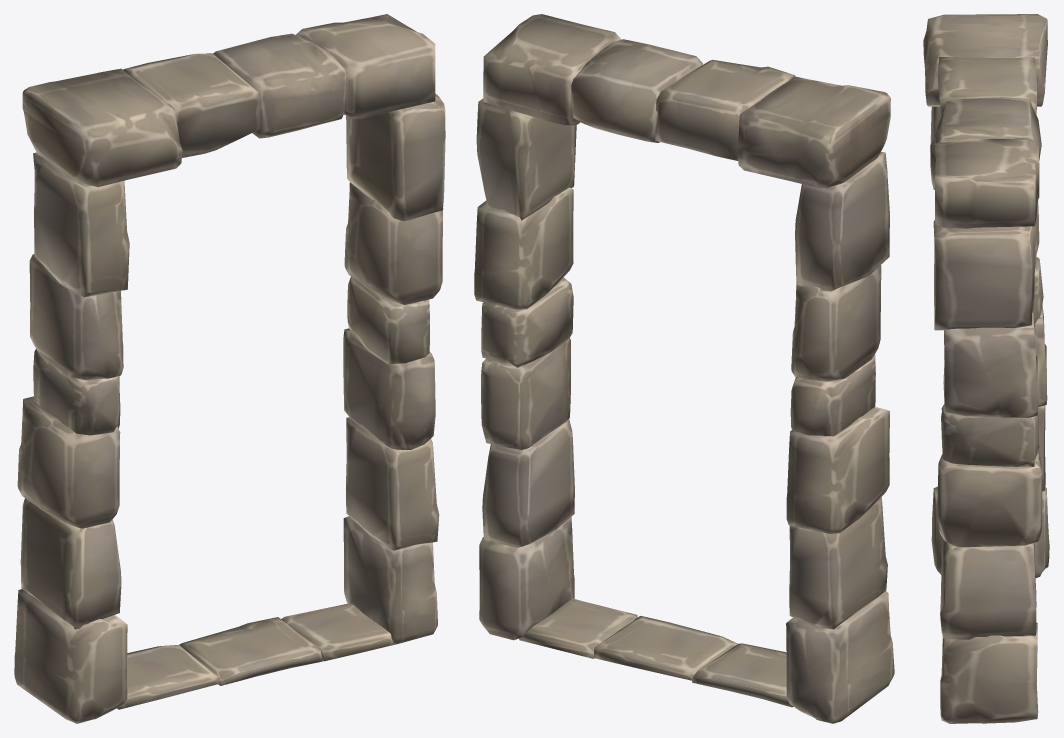
The model's file is doorframe-flat-brick.glb.
3 renders of one model, left to right at view 1: azimuth 30°, elevation 25°; view 2: azimuth 150°, elevation 25°; view 3: azimuth 270°, elevation 25°, orthographic. The views are drawn at different scales.
Parts seen in each view (by area): view 1: DoorFrame_Flat_Brick; view 2: DoorFrame_Flat_Brick; view 3: DoorFrame_Flat_Brick.
Part boxes in pixels (x1,y1,x2,y2): DoorFrame_Flat_Brick: (14,14,445,723); DoorFrame_Flat_Brick: (474,14,894,723); DoorFrame_Flat_Brick: (923,14,1049,723).
Size of the model in its own units: 1.57 by 2.38 by 0.4943.
1 material, 1 textured.
